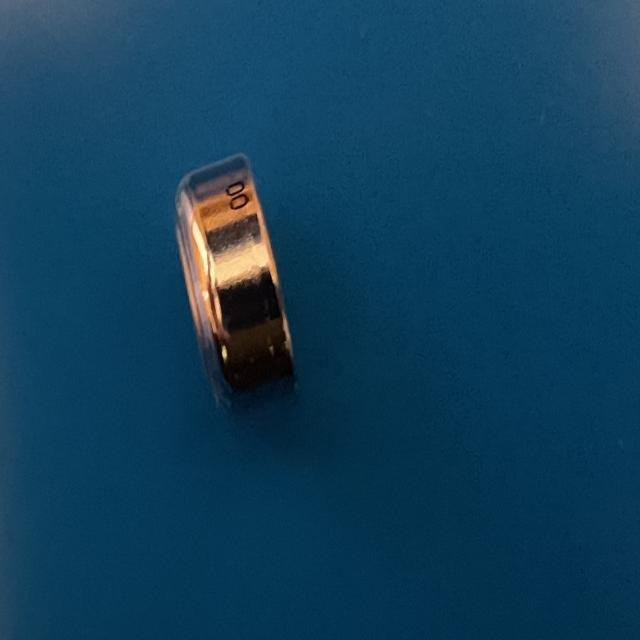COIN: (174, 152, 300, 406)
